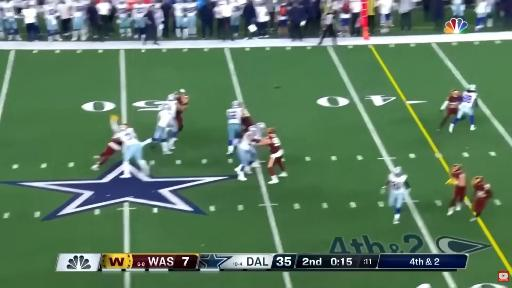Helmet: (244, 131, 255, 141), (392, 166, 402, 175), (167, 92, 177, 101), (473, 176, 484, 183), (248, 126, 258, 133), (256, 123, 266, 130), (452, 164, 461, 171), (119, 124, 128, 131), (162, 103, 171, 110), (243, 108, 250, 116), (467, 85, 476, 91), (232, 101, 241, 107), (268, 128, 275, 134), (452, 90, 459, 96), (239, 101, 245, 107), (246, 132, 254, 136), (179, 89, 185, 93)
Jersey: (388, 174, 407, 193), (119, 128, 139, 146), (474, 182, 491, 200), (72, 0, 88, 17), (460, 92, 477, 107), (269, 134, 281, 154), (227, 108, 242, 124), (158, 110, 172, 127), (238, 133, 252, 150), (44, 5, 57, 23), (2, 1, 15, 19), (116, 3, 129, 20), (451, 169, 464, 186), (132, 4, 147, 18), (167, 100, 178, 119), (248, 126, 262, 140), (183, 3, 196, 16), (173, 3, 185, 17), (448, 95, 460, 108), (177, 111, 182, 117)
Player: (91, 116, 125, 170), (256, 128, 287, 183), (119, 125, 149, 177), (383, 167, 409, 223), (151, 101, 176, 154), (449, 85, 477, 132), (235, 132, 255, 180), (438, 90, 461, 130), (448, 164, 466, 215), (471, 176, 491, 221), (227, 101, 243, 154), (2, 0, 21, 40), (44, 3, 62, 41), (132, 0, 147, 40), (176, 89, 189, 131), (173, 0, 187, 38), (249, 123, 266, 142), (242, 106, 253, 131)
